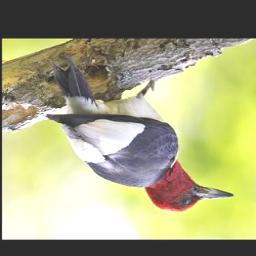Woodpecker: (47, 56, 232, 211)
